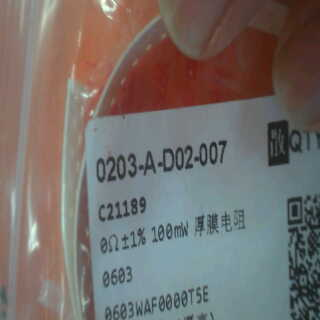0R: (98, 220, 147, 286)
